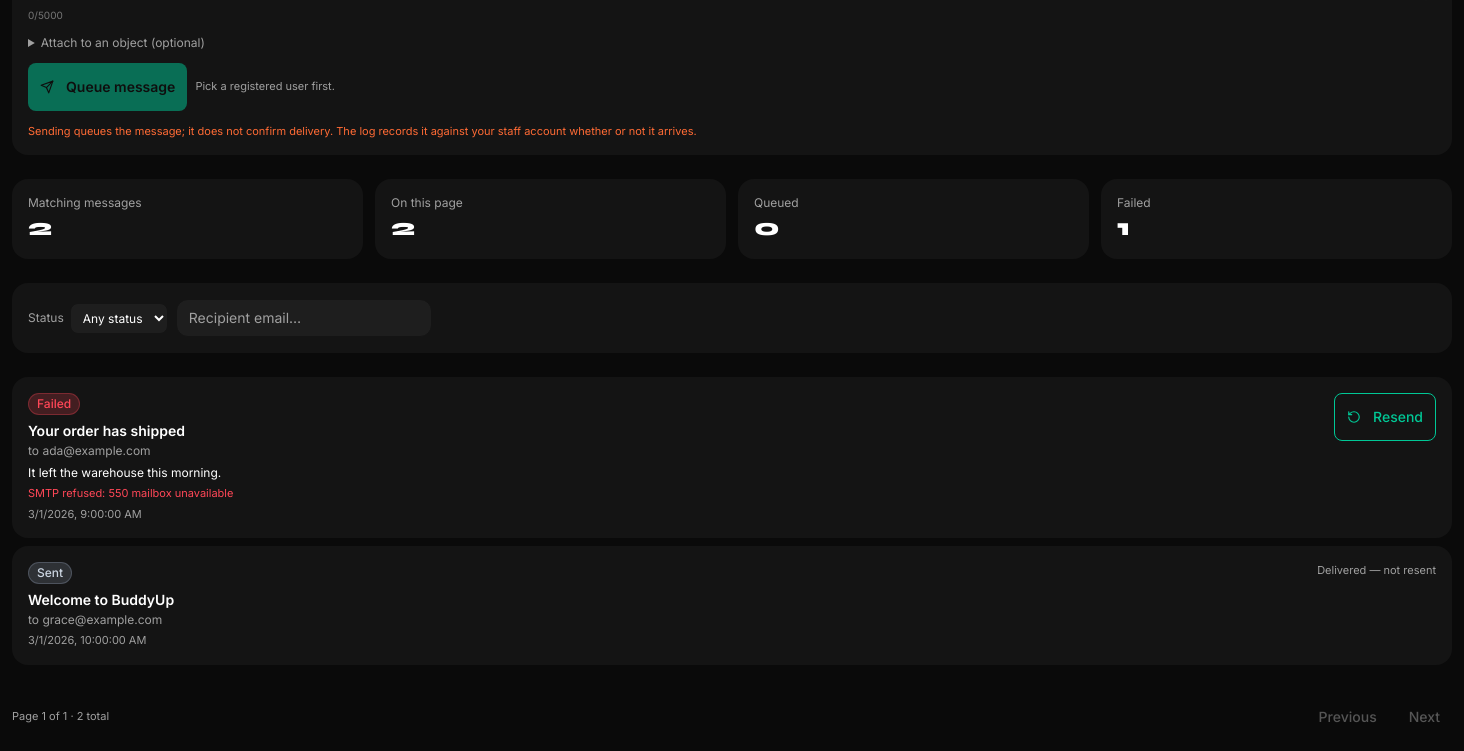
Test: AdminEmail — the log › resends by id and reports the requeue
The width and height of the screenshot is (1464, 751).
(page scrolled)
Click the button "Resend": (1385, 417) top-left (1334, 393), bottom-right (1436, 441)
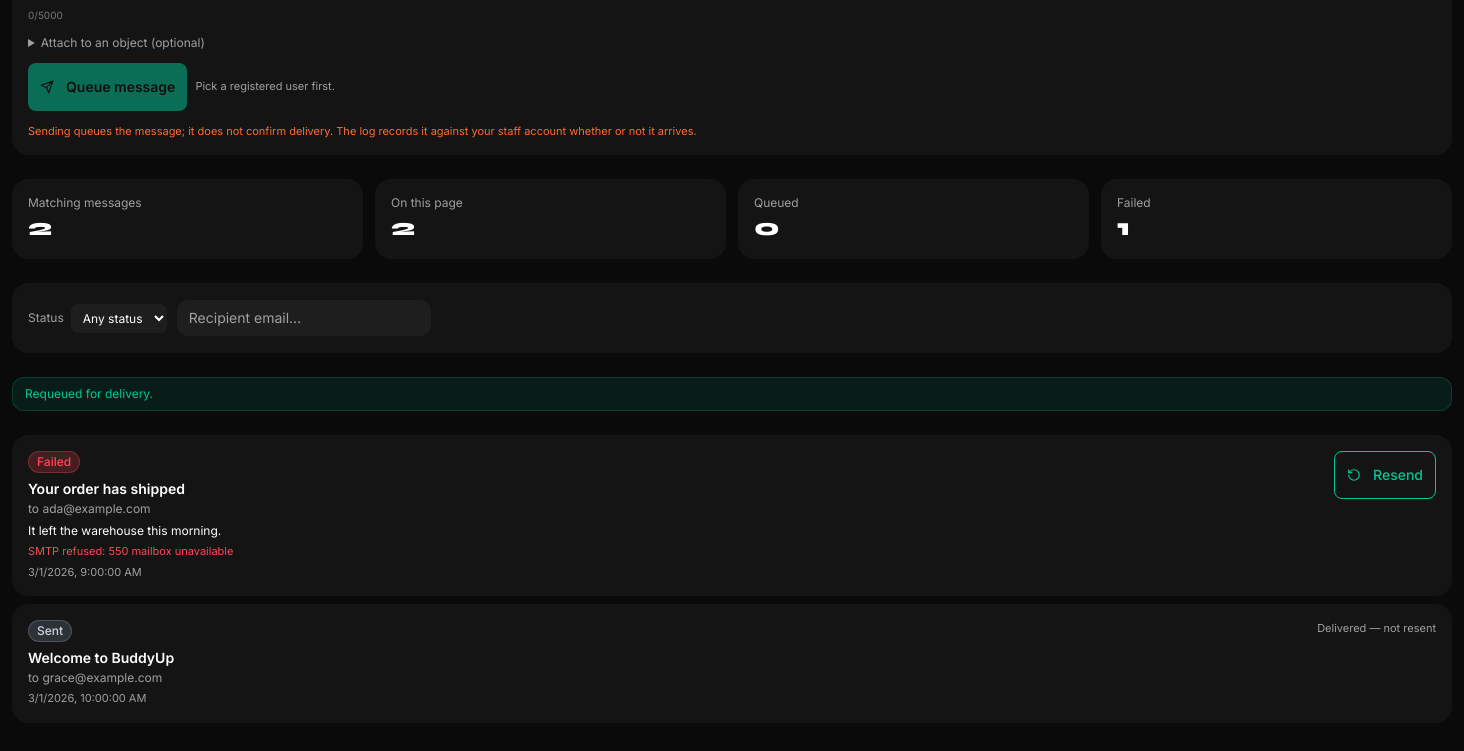
expect the text "Requeued for delivery." is shown: met, box top-left (12, 377), bottom-right (1452, 411)
